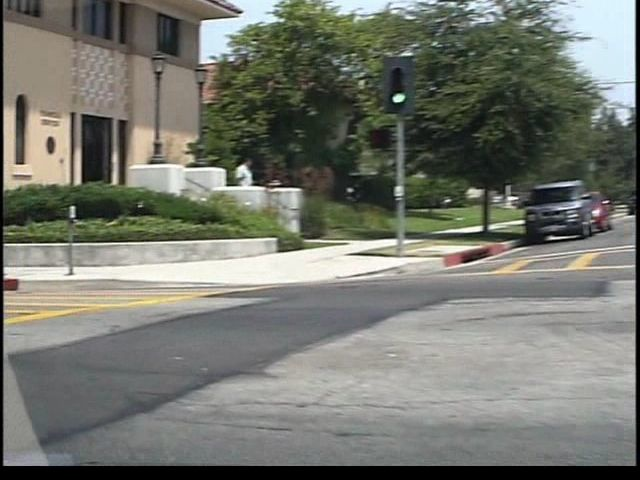person: (222, 151, 245, 220)
